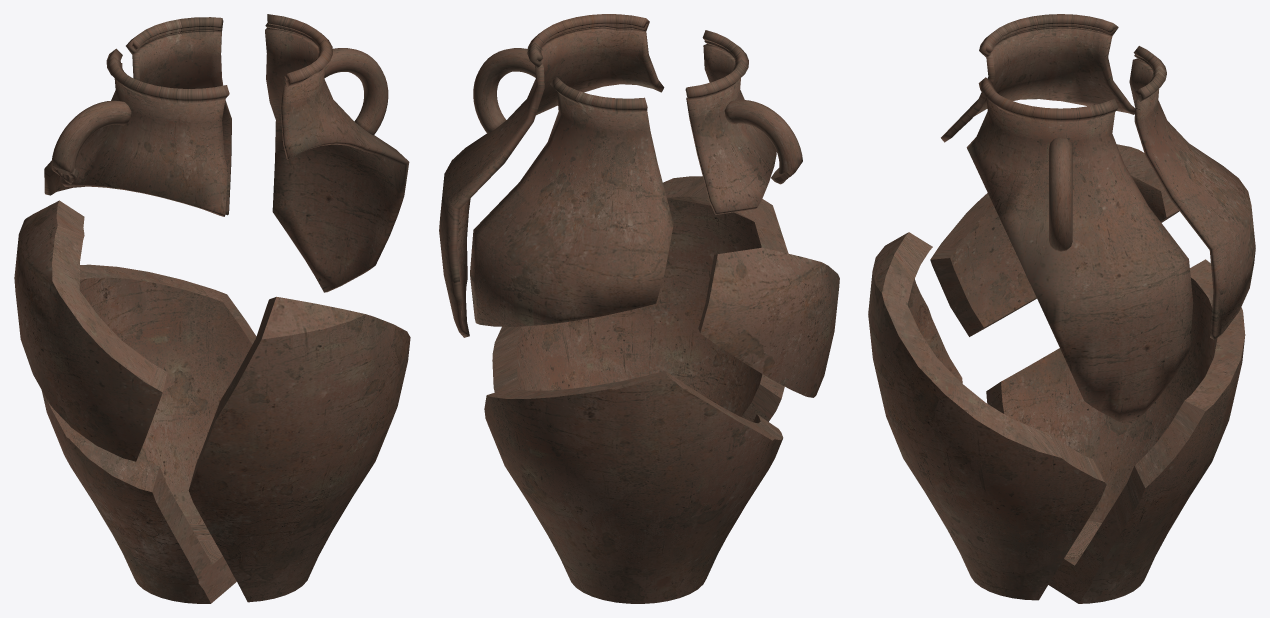
The model's file is pot_vase_fractured.gltf.
The picture shows the model from 3 angles, left to right: view 1: azimuth 30°, elevation 25°; view 2: azimuth 150°, elevation 25°; view 3: azimuth 270°, elevation 25°; orthographic projection. The views are drawn at different scales.
Parts seen in each view (by area): view 1: Sphere_cell.006, Sphere_cell, Sphere_cell.009, Sphere_cell.001, Sphere_cell.008, Sphere_cell.003; view 2: Sphere_cell, Sphere_cell.003, Sphere_cell.006, Sphere_cell.009, Sphere_cell.001, Sphere_cell.008; view 3: Sphere_cell.009, Sphere_cell.006, Sphere_cell, Sphere_cell.003, Sphere_cell.008, Sphere_cell.001.
Boxes of the visible parts, x1=… form: Sphere_cell.006: x1=188, y1=296, x2=410, y2=602; Sphere_cell: x1=41, y1=264, x2=256, y2=603; Sphere_cell.009: x1=265, y1=14, x2=409, y2=292; Sphere_cell.001: x1=14, y1=200, x2=167, y2=461; Sphere_cell.008: x1=51, y1=48, x2=229, y2=216; Sphere_cell.003: x1=44, y1=17, x2=231, y2=215; Sphere_cell: x1=484, y1=371, x2=783, y2=603; Sphere_cell.003: x1=470, y1=76, x2=673, y2=326; Sphere_cell.006: x1=492, y1=176, x2=788, y2=421; Sphere_cell.009: x1=439, y1=14, x2=664, y2=337; Sphere_cell.001: x1=698, y1=247, x2=839, y2=397; Sphere_cell.008: x1=685, y1=30, x2=802, y2=214; Sphere_cell.009: x1=966, y1=77, x2=1193, y2=425; Sphere_cell.006: x1=868, y1=232, x2=1106, y2=600; Sphere_cell: x1=986, y1=259, x2=1245, y2=603; Sphere_cell.003: x1=1129, y1=46, x2=1255, y2=340; Sphere_cell.008: x1=941, y1=14, x2=1134, y2=142; Sphere_cell.001: x1=930, y1=144, x2=1179, y2=336.
Bounding box in the file's own units: 0.5192 × 0.7214 × 0.4887.
1 material, 1 textured.
